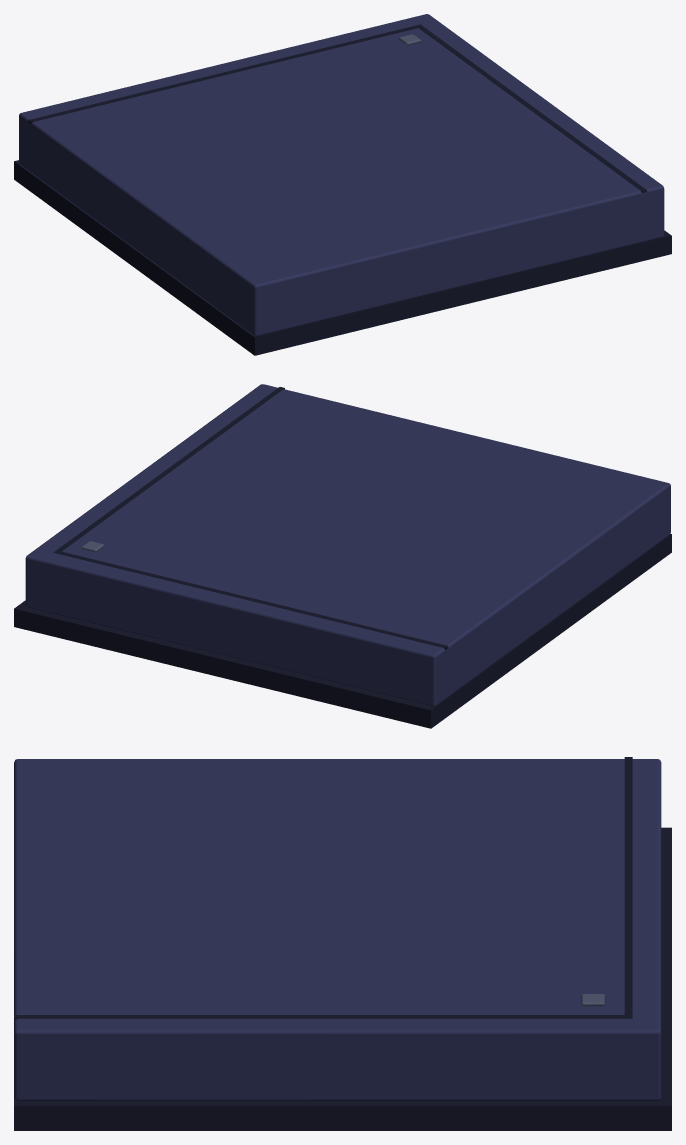
File: roof.skin.square.EN.glb
3 renders of one model, top to bottom at view 1: azimuth 30°, elevation 25°; view 2: azimuth 150°, elevation 25°; view 3: azimuth 270°, elevation 25°, orthographic. The views are drawn at different scales.
Visible parts, largest first — view 1: roof.skin.square.EN; view 2: roof.skin.square.EN; view 3: roof.skin.square.EN.
Boxes of the visible parts, x1,y1,x2,y2 form: roof.skin.square.EN: (14,14,671,355); roof.skin.square.EN: (14,384,671,728); roof.skin.square.EN: (14,757,671,1130).
Size of the model in its own units: 1 by 0.167 by 1.
